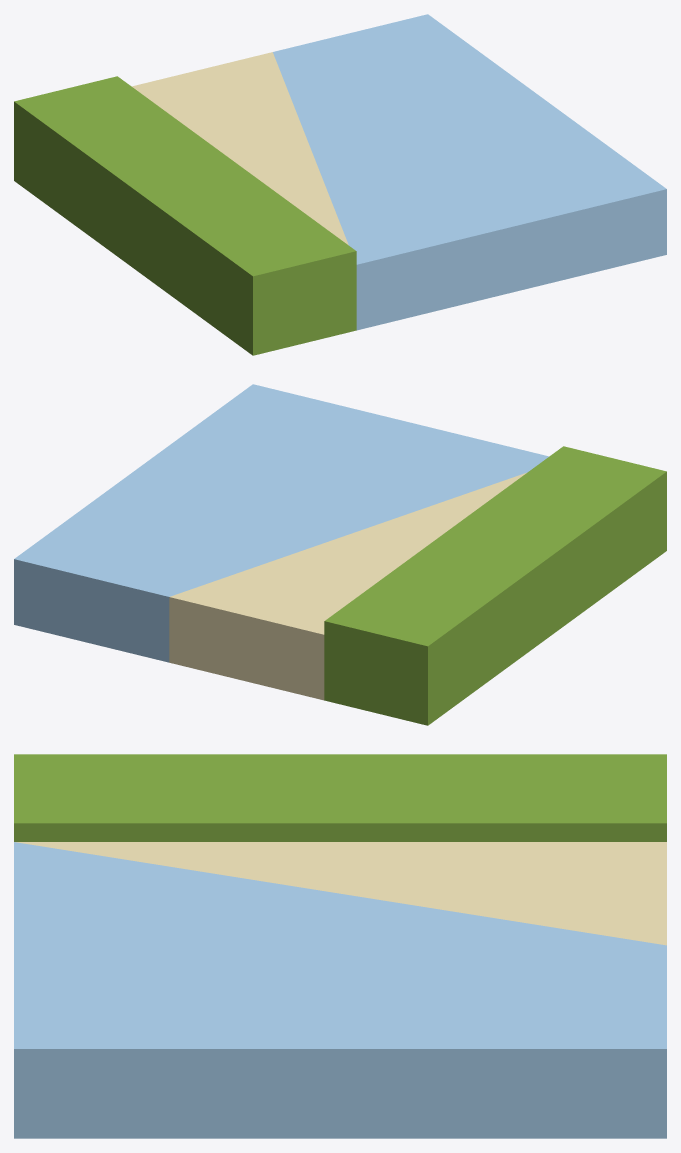
Rendered from tile125.dae.
3 renders of one model, top to bottom at view 1: azimuth 30°, elevation 25°; view 2: azimuth 150°, elevation 25°; view 3: azimuth 270°, elevation 25°, orthographic. The views are drawn at different scales.
Visible parts, largest first — view 1: tile125; view 2: tile125; view 3: tile125.
Part boxes in pixels (x1,y1,x2,y2): tile125: (14,14,666,355); tile125: (14,384,666,725); tile125: (14,754,666,1138).
Size of the model in its own units: 1 by 0.1833 by 1.
